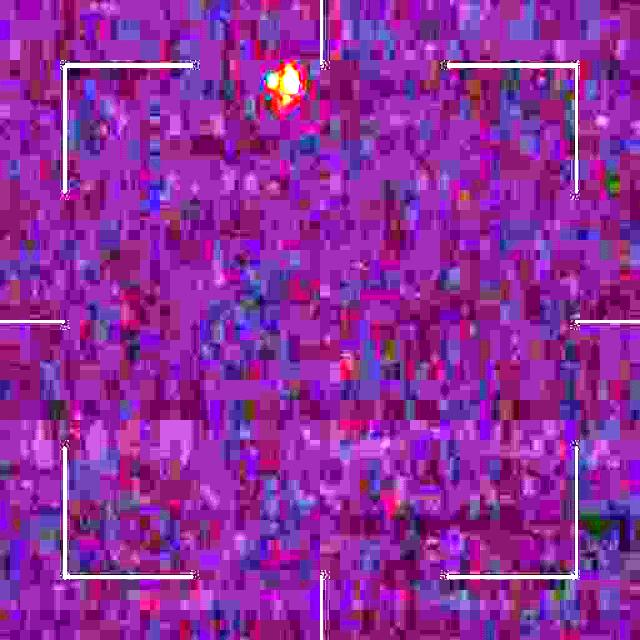bird: (266, 64, 299, 112)
